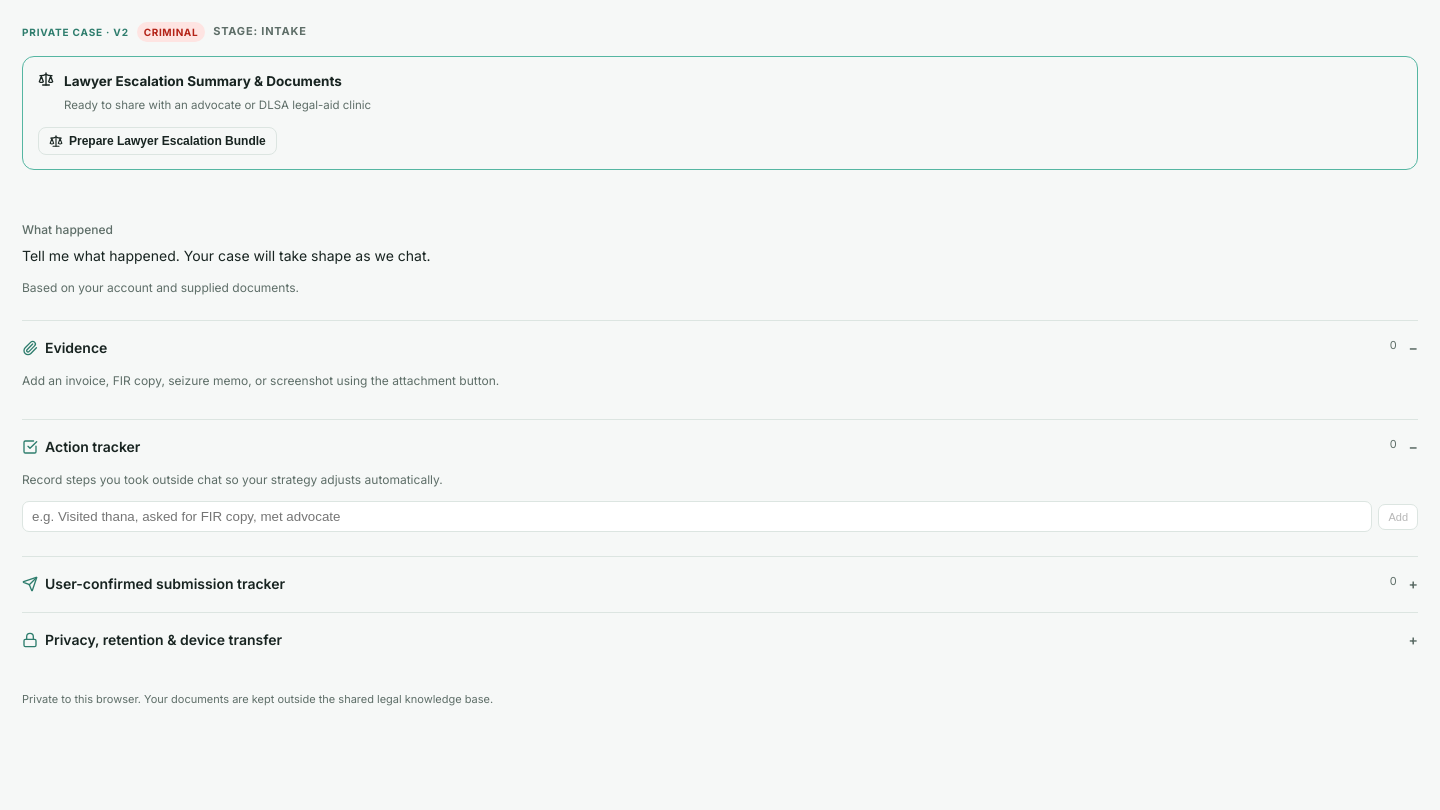
Test: resolution preparation › shows the escalation bundle content a lawyer needs, with downloads
Click the button "Prepare Lawyer Escalation Bundle": [157, 141] box 38,127 -> 277,155
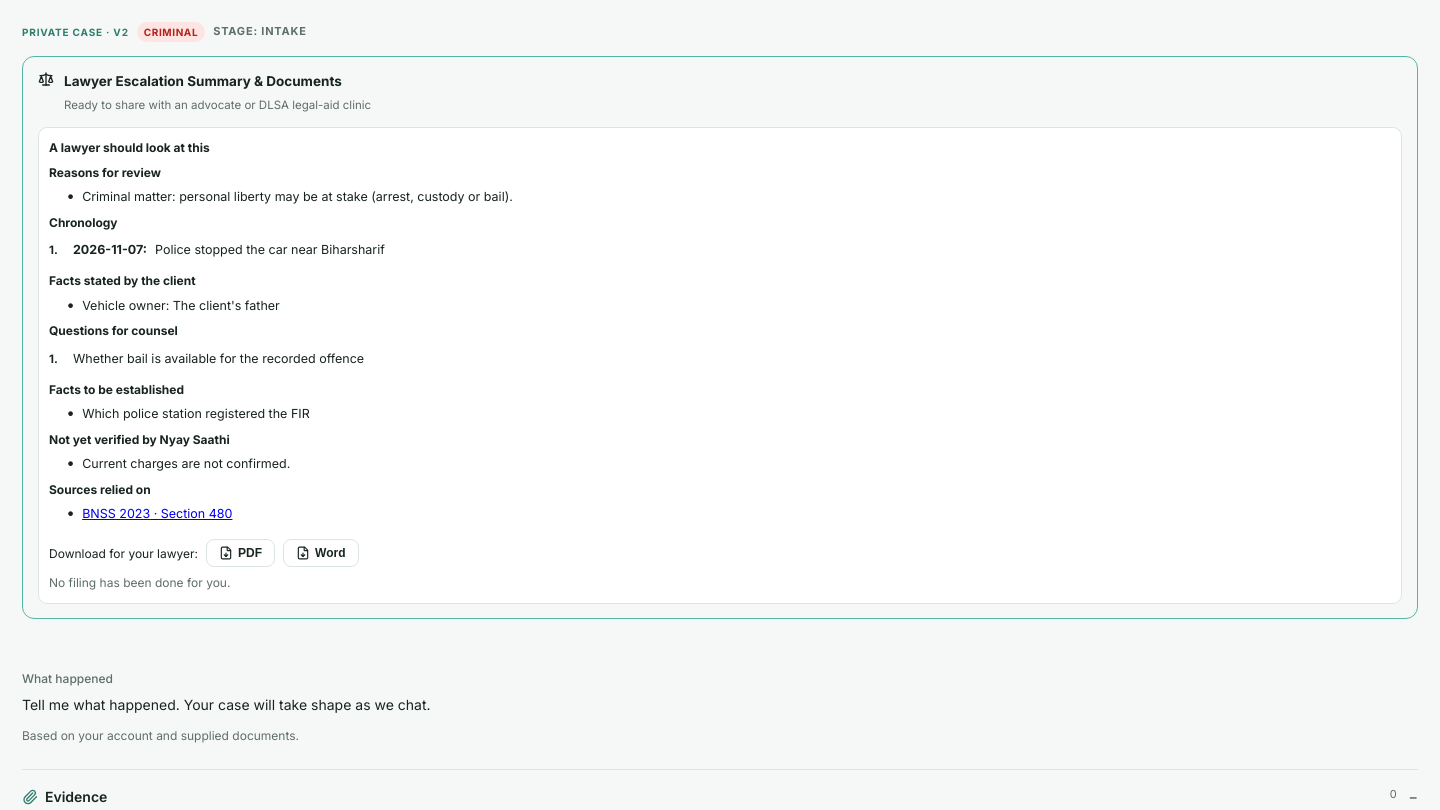
Now the text "A lawyer should look at this" is shown, box 49,140 -> 210,155
Now the text "Reasons for review" is shown, box 49,165 -> 161,180
Now the text "Chronology" is shown, box 49,215 -> 118,230
Click the button "PDF": [240, 554] box 206,540 -> 275,568
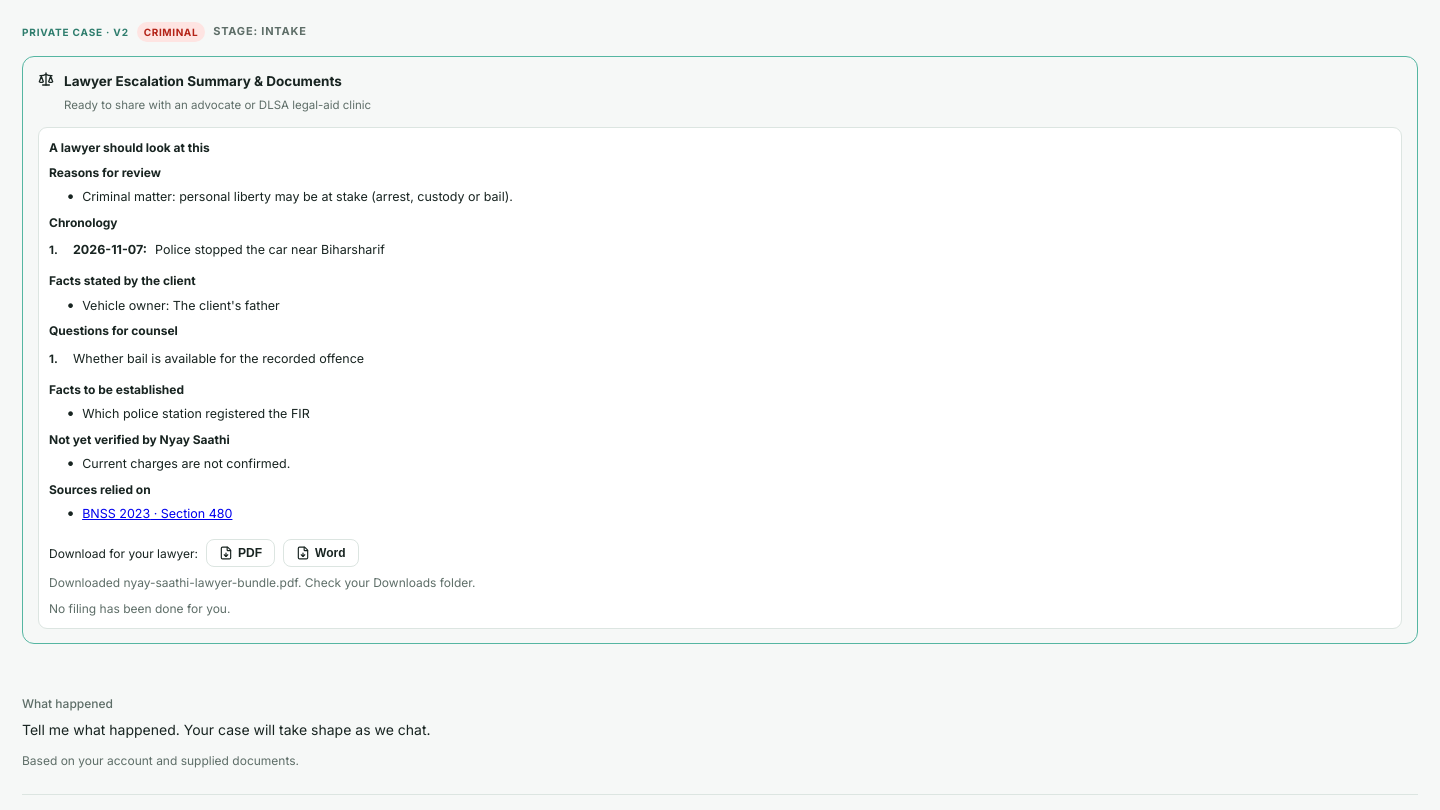
Now the message shows "Downloaded nyay-saathi-lawyer-bundle.pdf", box 49,576 -> 476,590
